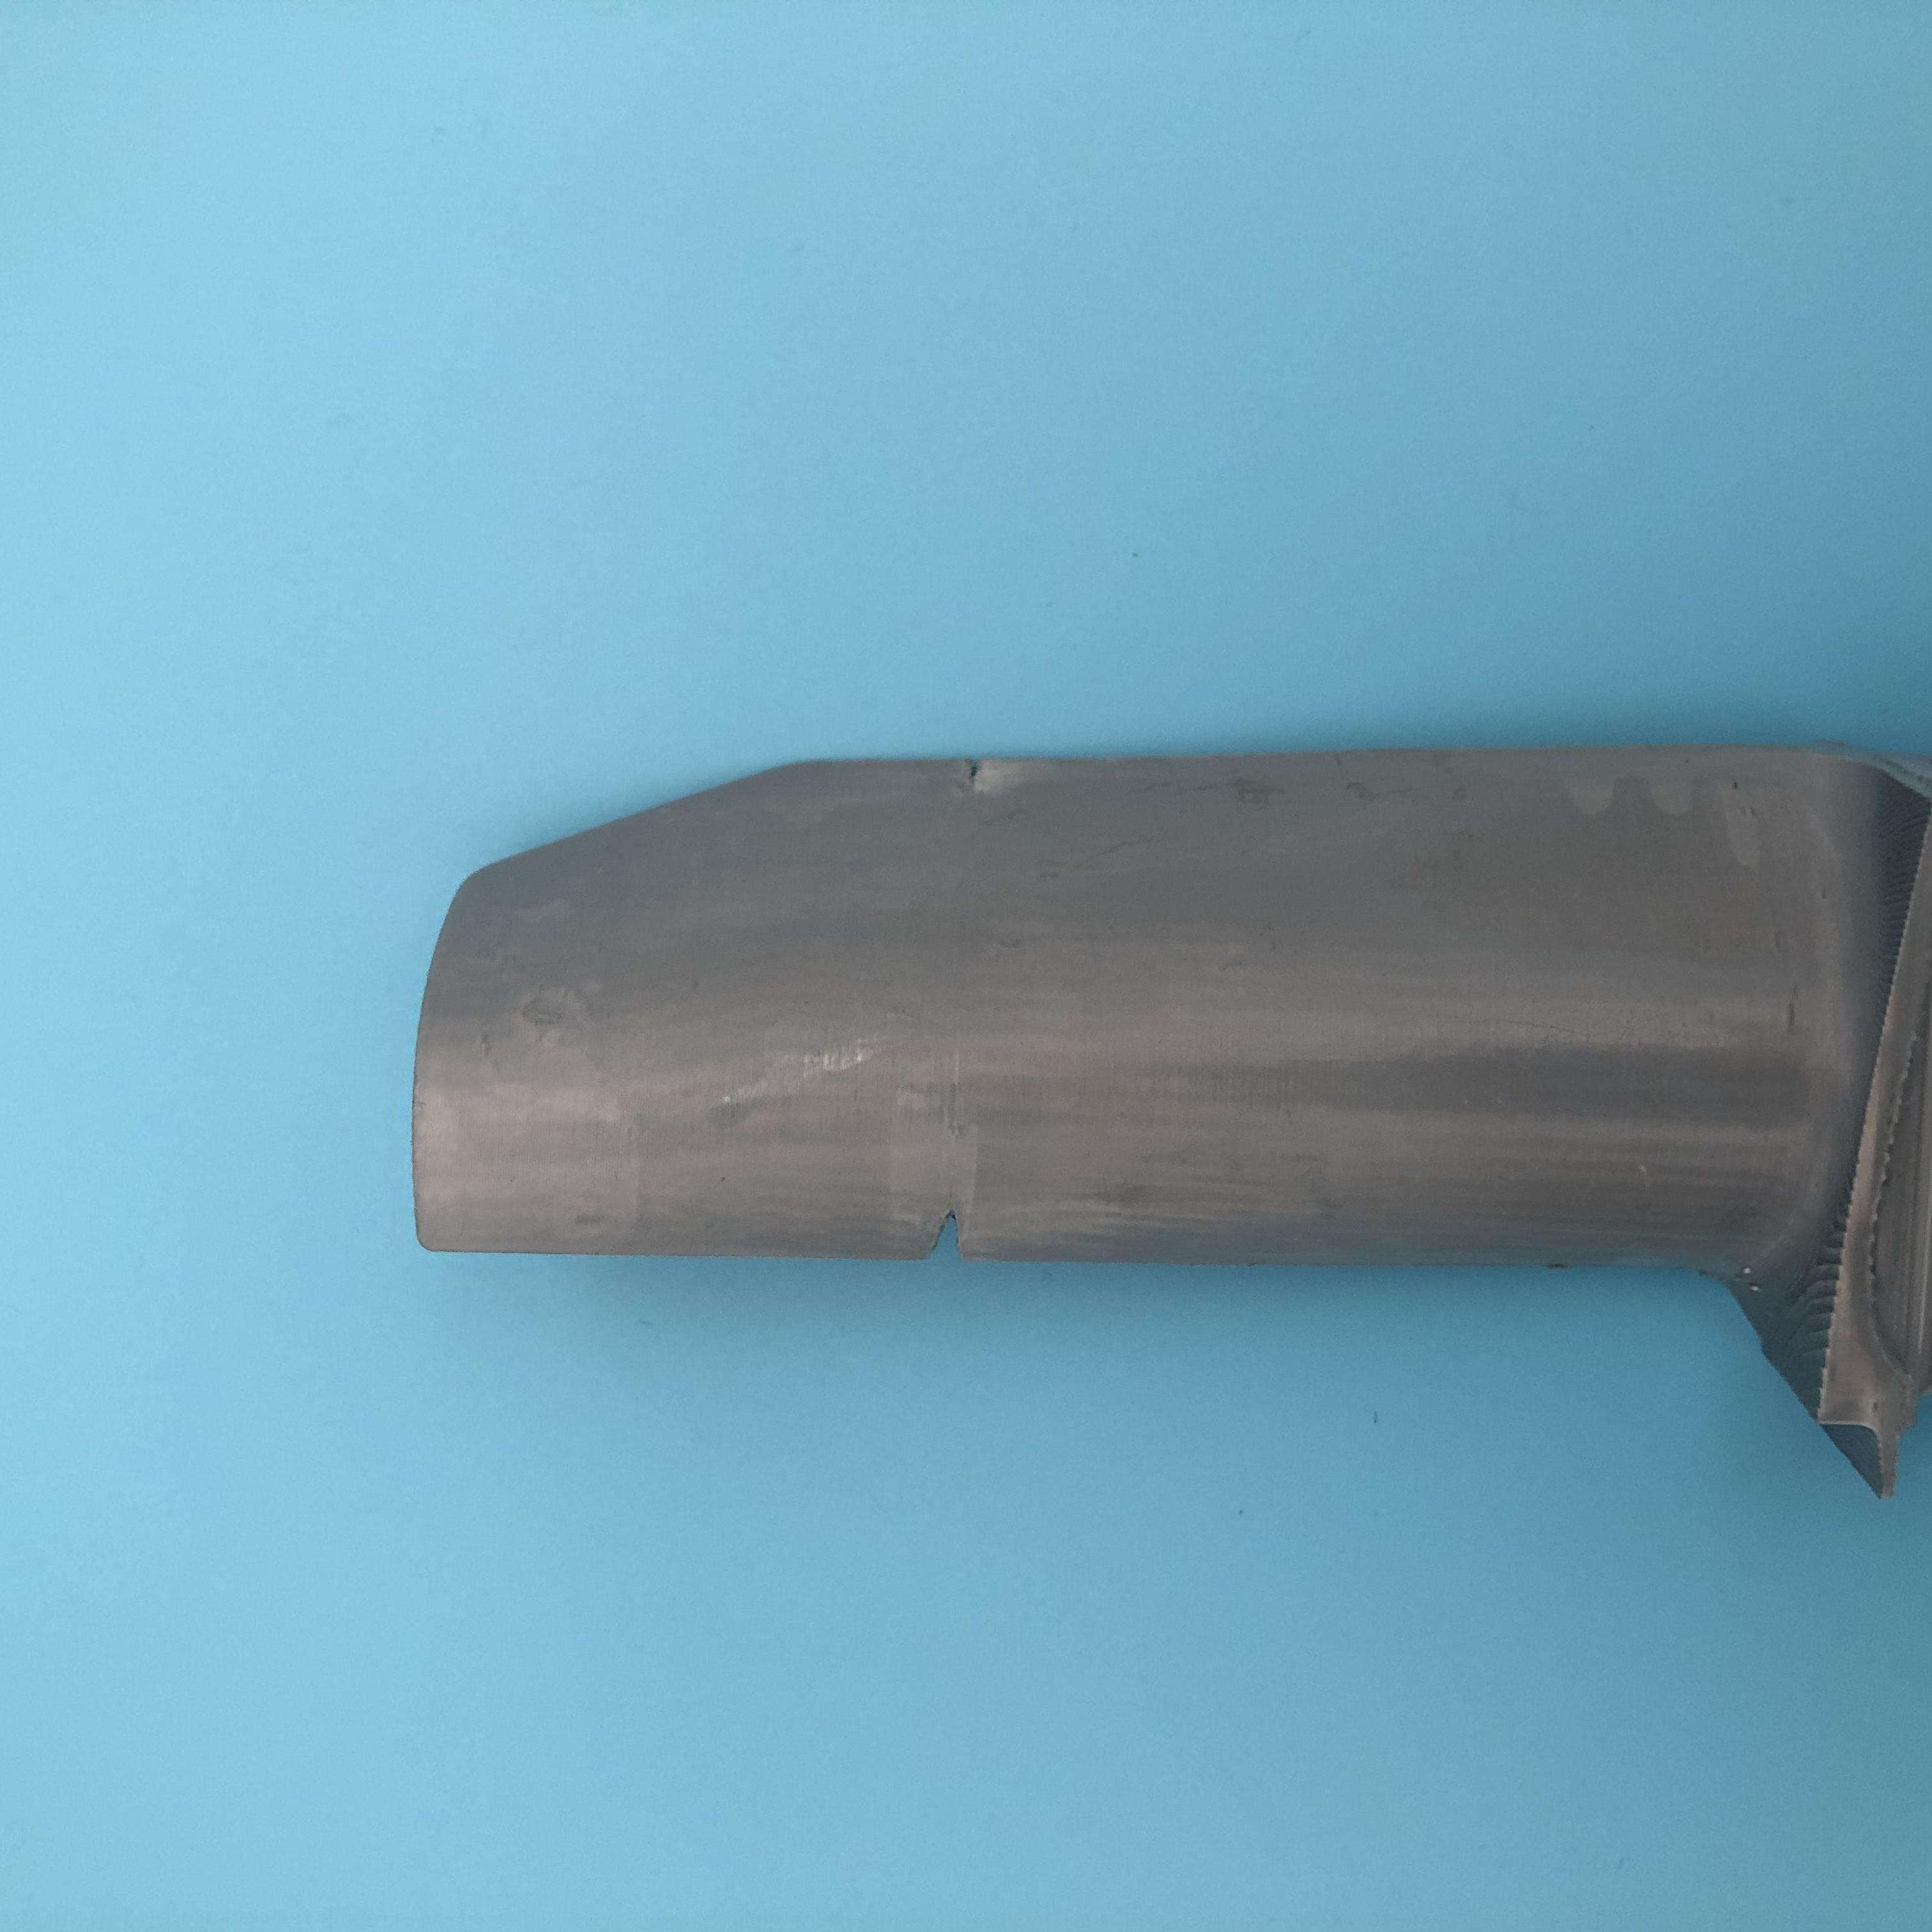groove: (922, 1207, 978, 1253), (957, 763, 1001, 793)
